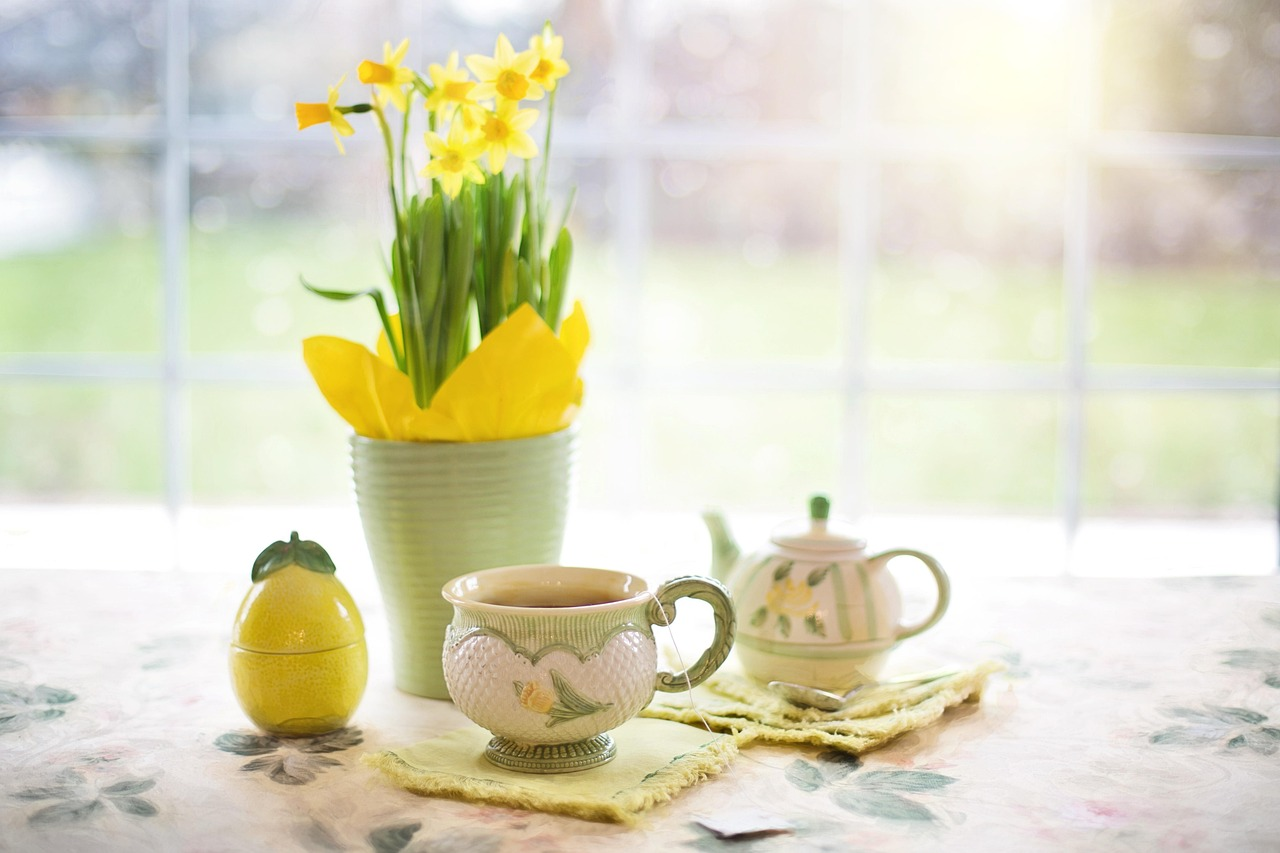mug: (413, 546, 745, 800)
